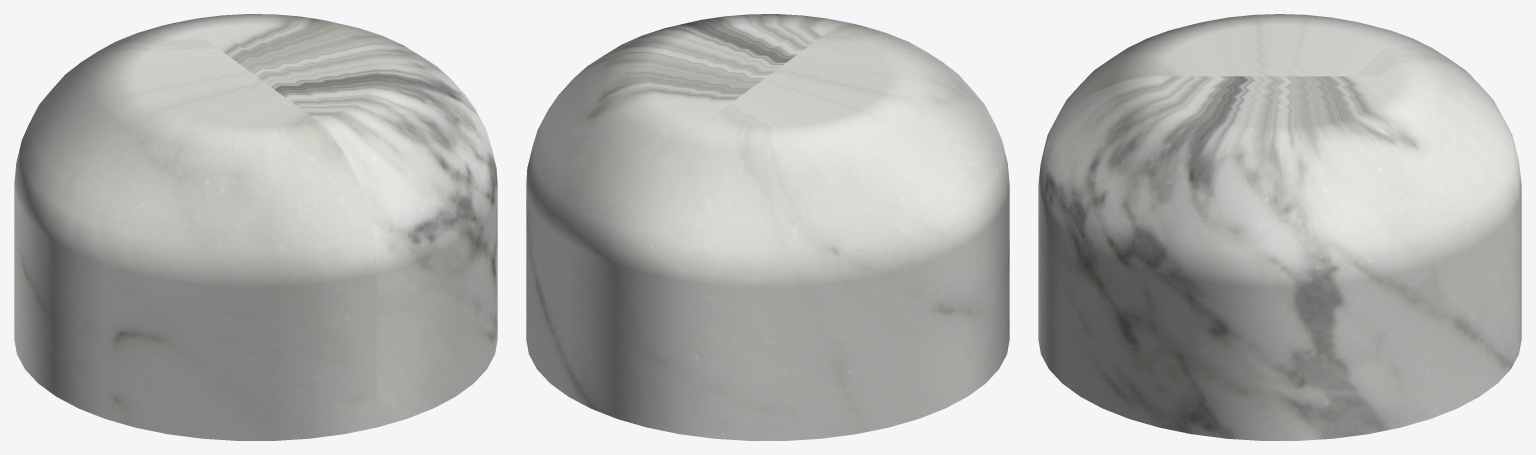
Rendered from VectorBaseStock.glb.
3 renders of one model, left to right at view 1: azimuth 30°, elevation 25°; view 2: azimuth 150°, elevation 25°; view 3: azimuth 270°, elevation 25°, orthographic.
Visible parts, largest first — view 1: Base; view 2: Base; view 3: Base.
Boxes of the visible parts, box(x1,y1,x2,y2) form: Base: box(14, 14, 497, 440); Base: box(526, 14, 1009, 440); Base: box(1038, 14, 1521, 440).
Size of the model in its own units: 0.1994 by 0.12 by 0.2.
1 material, 1 textured.
